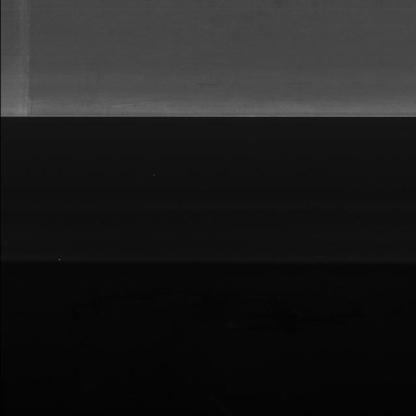welding_line: (15, 0, 40, 119)
